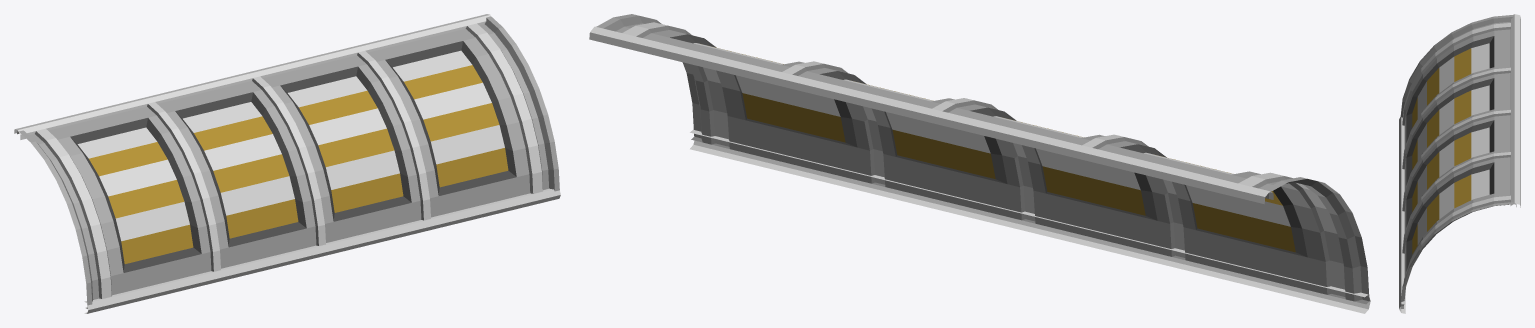
The model's file is elbow_concave.FBX.
3 renders of one model, left to right at view 1: azimuth 30°, elevation 25°; view 2: azimuth 150°, elevation 25°; view 3: azimuth 270°, elevation 25°, orthographic. The views are drawn at different scales.
Visible parts, largest first — view 1: elbow_concave; view 2: elbow_concave; view 3: elbow_concave.
Boxes of the visible parts, x1,y1,x2,y2 form: elbow_concave: (14,14,560,313); elbow_concave: (589,14,1370,313); elbow_concave: (1399,14,1520,313).
Bounding box in the file's own units: 200 × 54.38 × 54.36.
